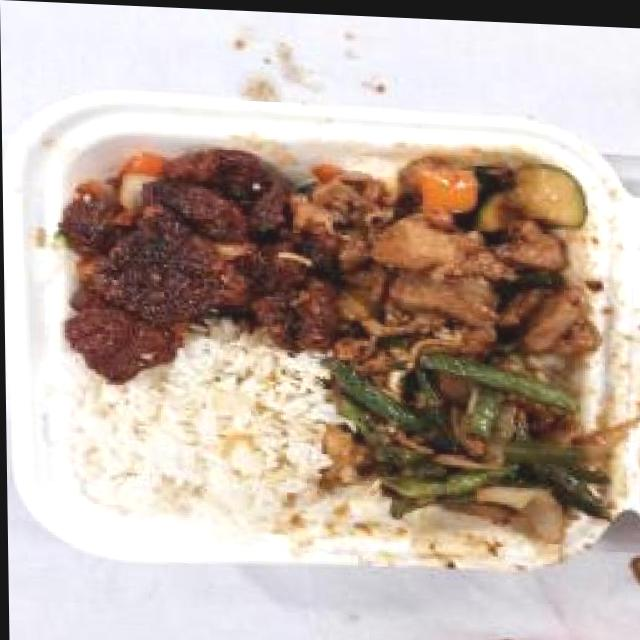Beijing Beef: (55, 132, 330, 391)
Kung Pao Chicken: (315, 141, 600, 364)
String Bean Chicken Breast: (342, 340, 619, 532)
White Steamed Rice: (74, 349, 331, 536)
